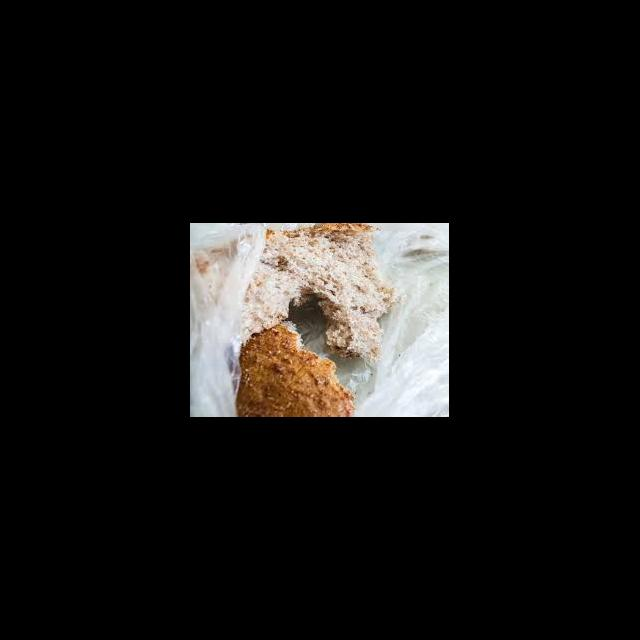food_waste: (249, 226, 401, 394)
